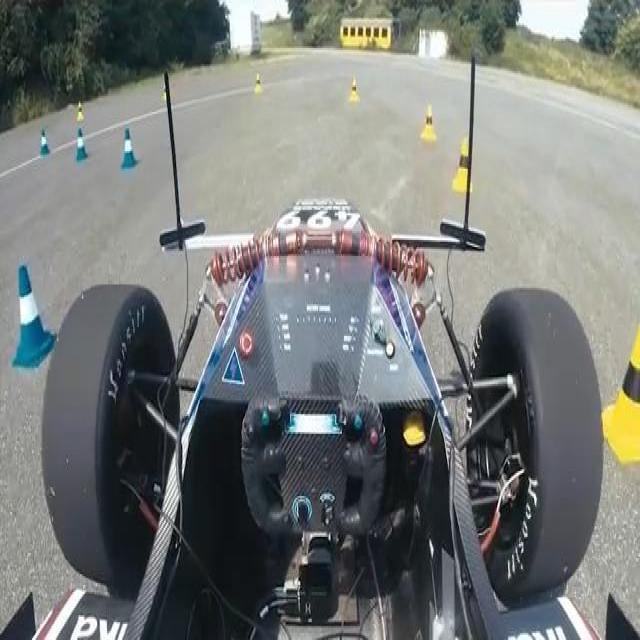blue_cone: (7, 261, 59, 368), (119, 126, 139, 173), (72, 124, 88, 164), (37, 130, 51, 160)
yellow_cone: (602, 311, 640, 467), (446, 138, 473, 194), (420, 105, 439, 142), (348, 76, 362, 105), (161, 78, 171, 102), (253, 70, 263, 92), (76, 101, 86, 123)
